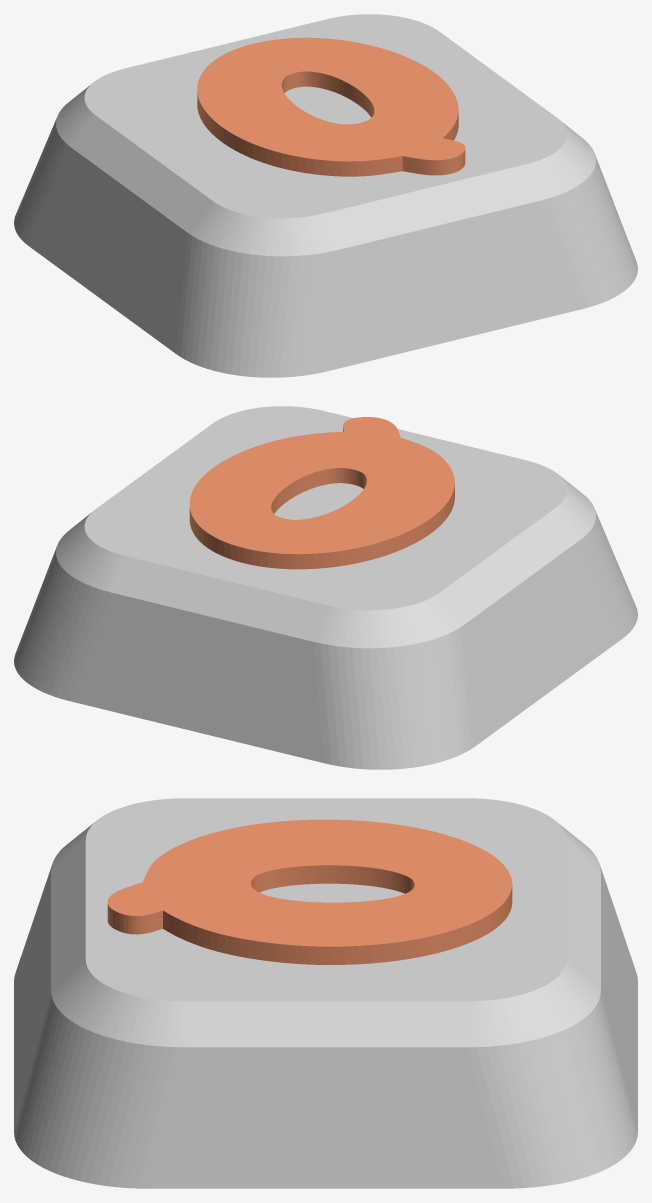
The model's file is cap-Q.glb.
3 renders of one model, top to bottom at view 1: azimuth 30°, elevation 25°; view 2: azimuth 150°, elevation 25°; view 3: azimuth 270°, elevation 25°, orthographic. The views are drawn at different scales.
Parts seen in each view (by area): view 1: cap_0, glyph_1; view 2: cap_0, glyph_1; view 3: cap_0, glyph_1.
Part boxes in pixels (x1,y1,x2,y2): cap_0: (14, 14, 637, 377); glyph_1: (197, 37, 465, 176); cap_0: (14, 406, 637, 769); glyph_1: (189, 417, 454, 569); cap_0: (14, 798, 637, 1188); glyph_1: (107, 819, 512, 964).
Size of the model in its own units: 18 by 5.59 by 18.
